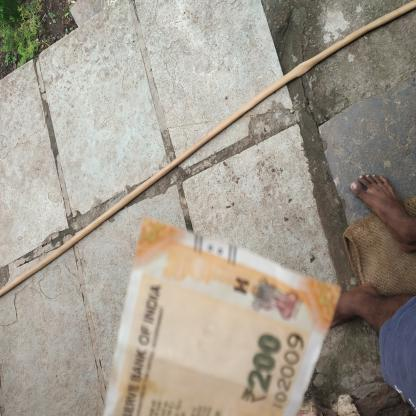New200Front: (117, 229, 308, 416)
